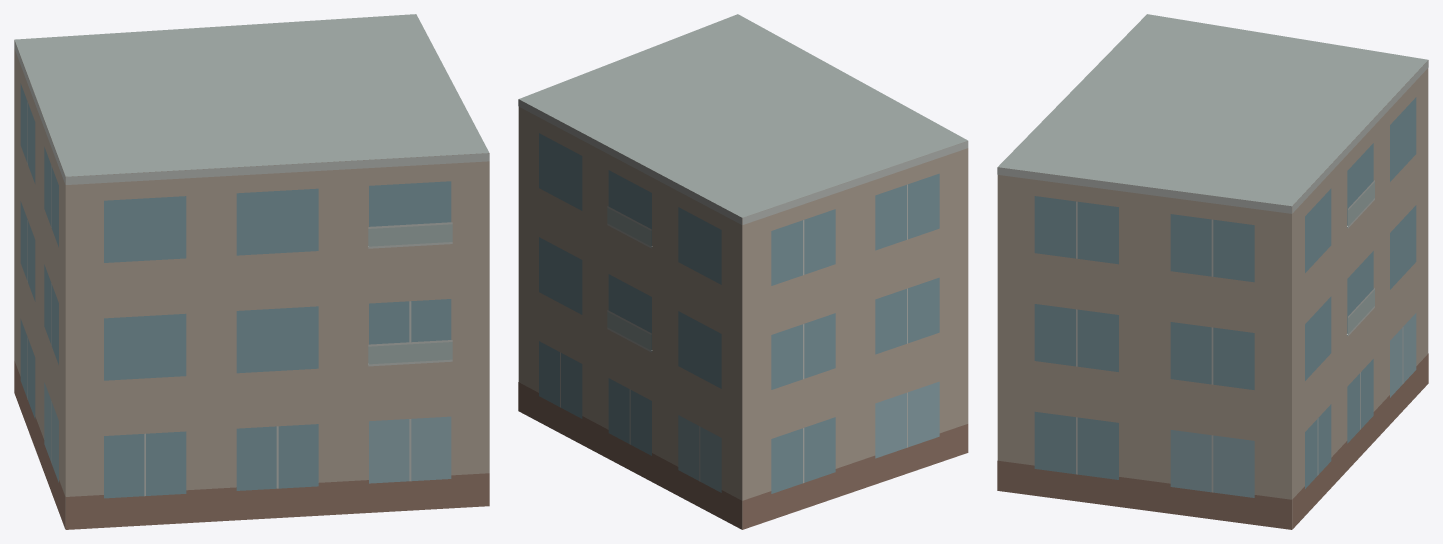
The model's file is survey-upis-32669229.glb.
3 renders of one model, left to right at view 1: azimuth 30°, elevation 25°; view 2: azimuth 150°, elevation 25°; view 3: azimuth 270°, elevation 25°, orthographic. The views are drawn at different scales.
Visible parts, largest first — view 1: survey-upis-32669229.tmp; view 2: survey-upis-32669229.tmp; view 3: survey-upis-32669229.tmp.
Boxes of the visible parts, box(x1,y1,x2,y2) form: survey-upis-32669229.tmp: box(14, 14, 489, 529); survey-upis-32669229.tmp: box(518, 14, 968, 529); survey-upis-32669229.tmp: box(997, 14, 1428, 529).
Bounding box in the file's own units: 13.13 × 10.3 × 12.44.
